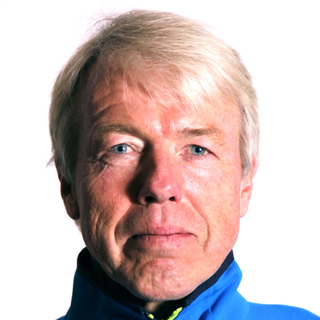eye: (172, 141, 221, 164), (96, 138, 143, 161)
